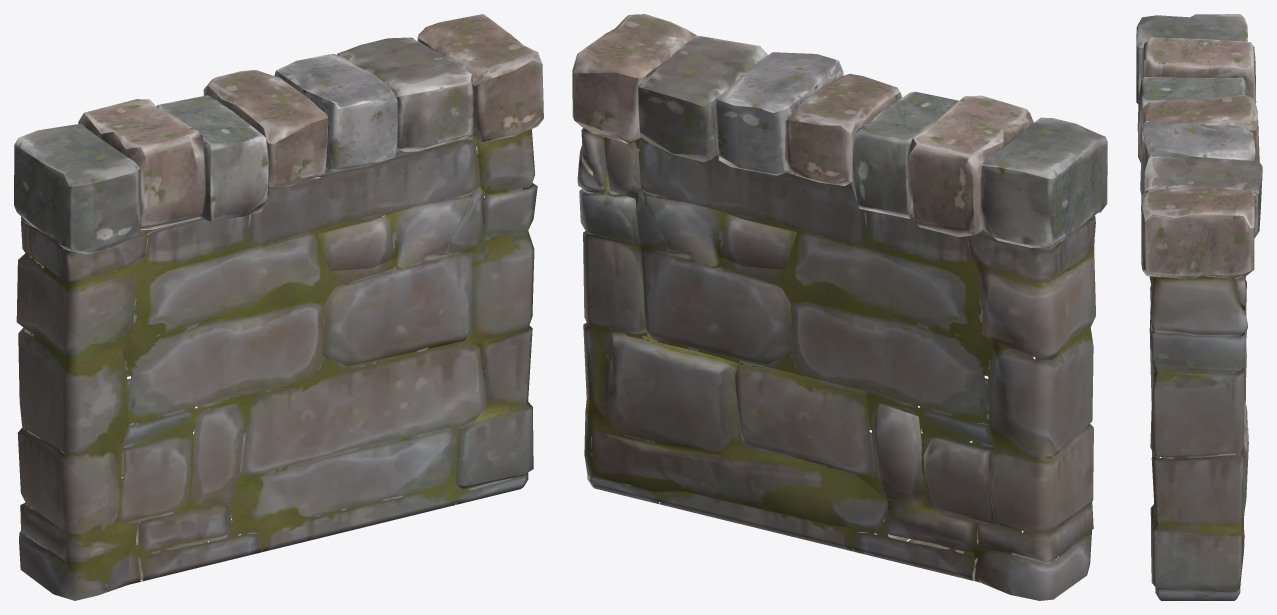
The picture shows the model from 3 angles, left to right: view 1: azimuth 30°, elevation 25°; view 2: azimuth 150°, elevation 25°; view 3: azimuth 270°, elevation 25°; orthographic projection. The views are drawn at different scales.
Parts seen in each view (by area): view 1: SM_River_Bridge_Wall_01_v3_LOD0; view 2: SM_River_Bridge_Wall_01_v3_LOD0; view 3: SM_River_Bridge_Wall_01_v3_LOD0.
Part boxes in pixels (x1,y1,x2,y2): SM_River_Bridge_Wall_01_v3_LOD0: (14,14,543,600); SM_River_Bridge_Wall_01_v3_LOD0: (572,14,1107,600); SM_River_Bridge_Wall_01_v3_LOD0: (1136,14,1262,600).
Bounding box in the file's own units: 2.05 × 1.8 × 0.5233.
Materials: 2 (2 with a texture image).
